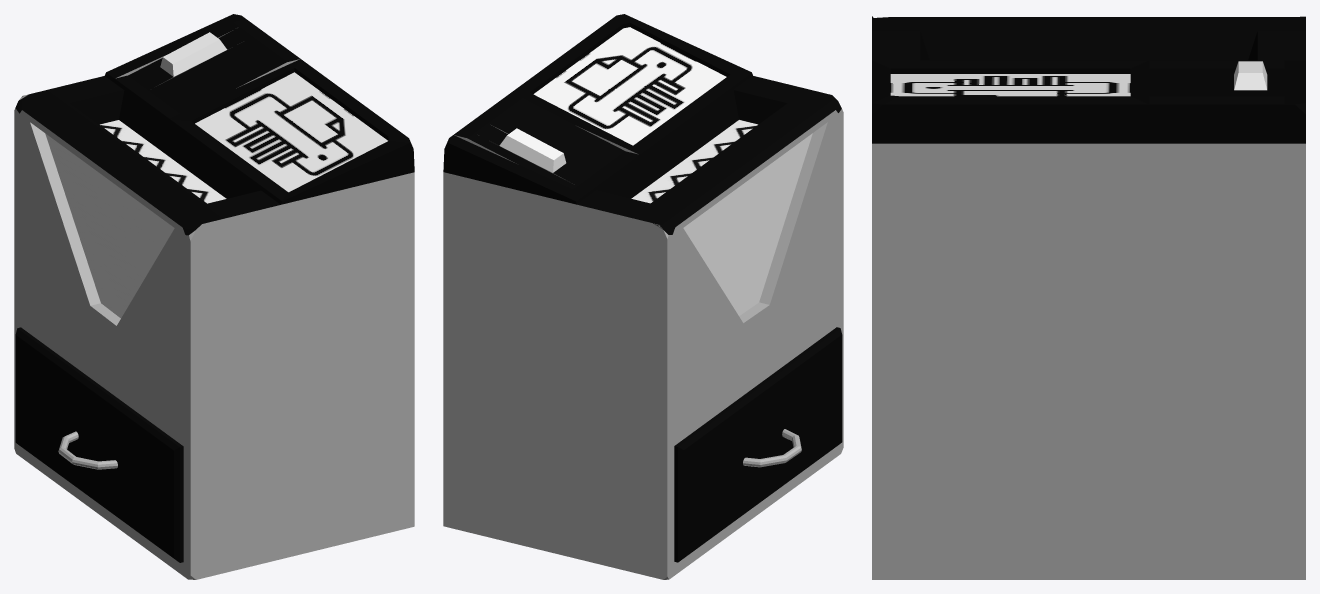
The model's file is TrituradoraPapel.fbx.
The picture shows the model from 3 angles, left to right: view 1: azimuth 30°, elevation 25°; view 2: azimuth 150°, elevation 25°; view 3: azimuth 270°, elevation 25°; orthographic projection. The views are drawn at different scales.
Visible parts, largest first — view 1: TrituradoraPapel; view 2: TrituradoraPapel; view 3: TrituradoraPapel.
Boxes of the visible parts, x1,y1,x2,y2 form: TrituradoraPapel: (14,14,414,579); TrituradoraPapel: (443,14,843,579); TrituradoraPapel: (872,16,1305,579).
Size of the model in its own units: 0.8602 by 1.22 by 1.
6 materials, 2 textured.
